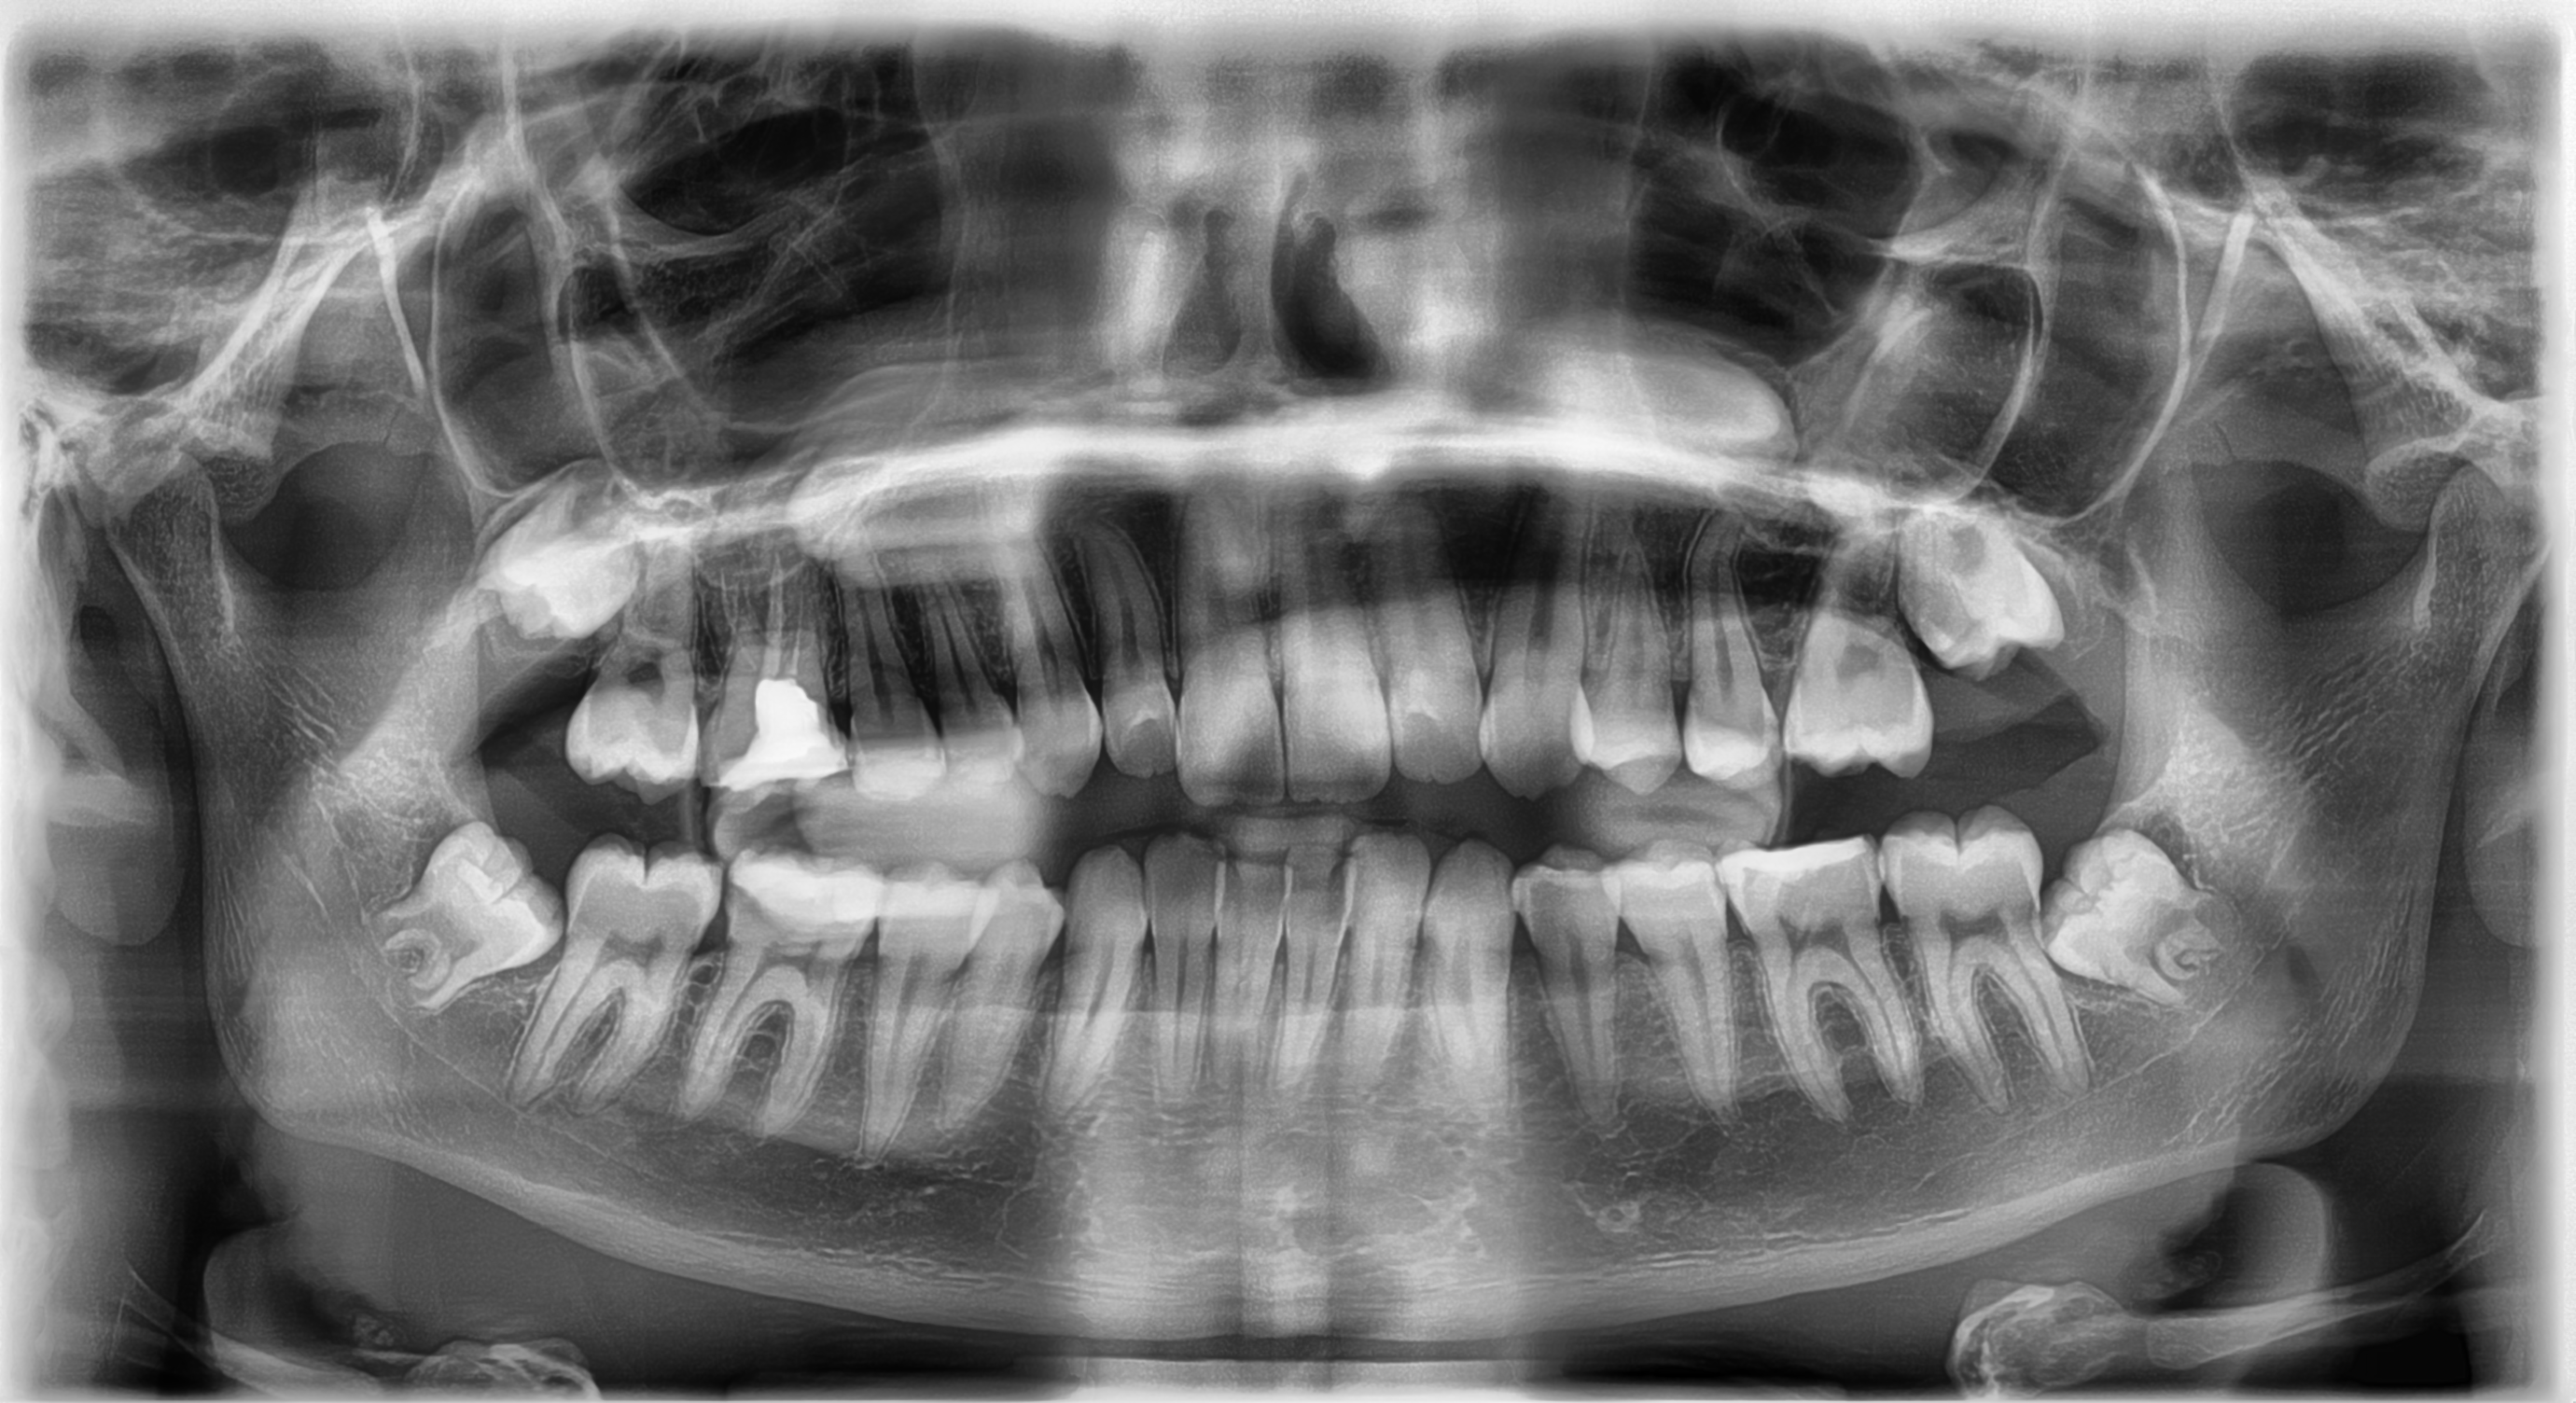apinamiento: (1171, 841, 1467, 943)
cordal: (2014, 797, 2272, 1038), (363, 778, 574, 1038), (1876, 484, 2097, 703), (449, 467, 651, 665)
